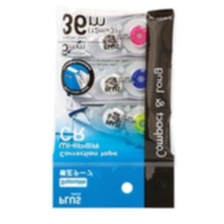correction_fluid: (61, 53, 170, 103), (61, 98, 171, 146), (64, 16, 168, 61)
plastic_bag: (50, 6, 176, 210)
